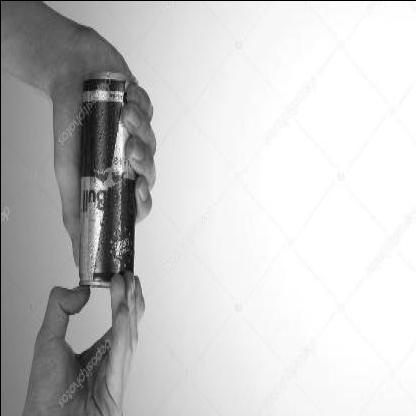alumunium_can: (76, 66, 136, 288)
